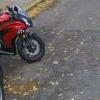Motorcycle: (2, 3, 52, 60)
